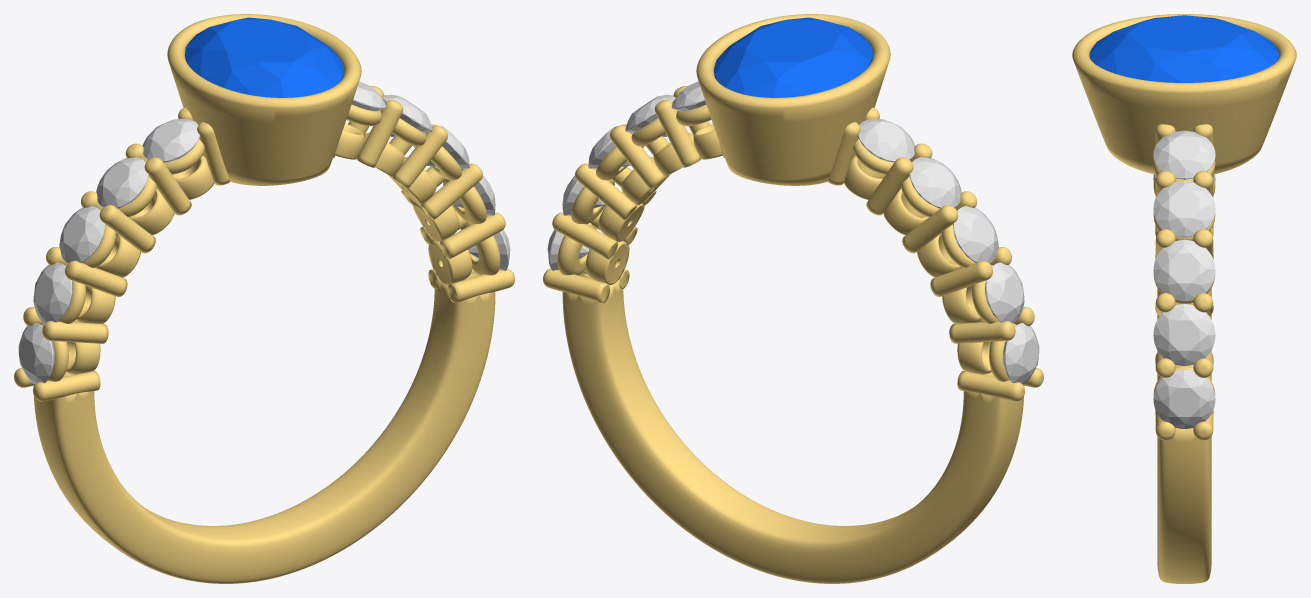
The model's file is bluesapphire-oval-yellowgold-bezelset-straightband-11stone.glb.
3 views of the same model, side by side, from view 1: azimuth 30°, elevation 25°; view 2: azimuth 150°, elevation 25°; view 3: azimuth 270°, elevation 25° (orthographic).
Parts seen in each view (by area): view 1: metal, stone.002, side.023, side.022, side.021, side.024, side.020, side.028, side.029; view 2: metal, stone.002, side.023, side.022, side.021, side.024, side.020, side.028, side.029; view 3: metal, stone.002, side.026, side.027, side.025, side.028, side.029.
Part boxes in pixels (x1,y1,x2,y2): metal: (14, 14, 514, 583); stone.002: (185, 17, 343, 97); side.023: (96, 157, 148, 208); side.022: (59, 206, 105, 263); side.021: (33, 262, 72, 323); side.024: (142, 119, 200, 162); side.020: (18, 323, 54, 384); side.028: (382, 94, 432, 136); side.029: (347, 81, 386, 120); metal: (543, 14, 1043, 583); stone.002: (714, 17, 872, 97); side.023: (909, 157, 961, 208); side.022: (952, 206, 998, 263); side.021: (985, 262, 1024, 323); side.024: (857, 119, 915, 162); side.020: (1003, 323, 1039, 384); side.028: (625, 94, 675, 136); side.029: (671, 81, 710, 120); metal: (1072, 14, 1296, 583); stone.002: (1089, 15, 1279, 82); side.026: (1153, 304, 1215, 365); side.027: (1153, 239, 1215, 300); side.025: (1153, 369, 1215, 428); side.028: (1153, 180, 1215, 237); side.029: (1153, 130, 1215, 179).
Size of the model in its own units: 22.05 by 23.4 by 9.04.
